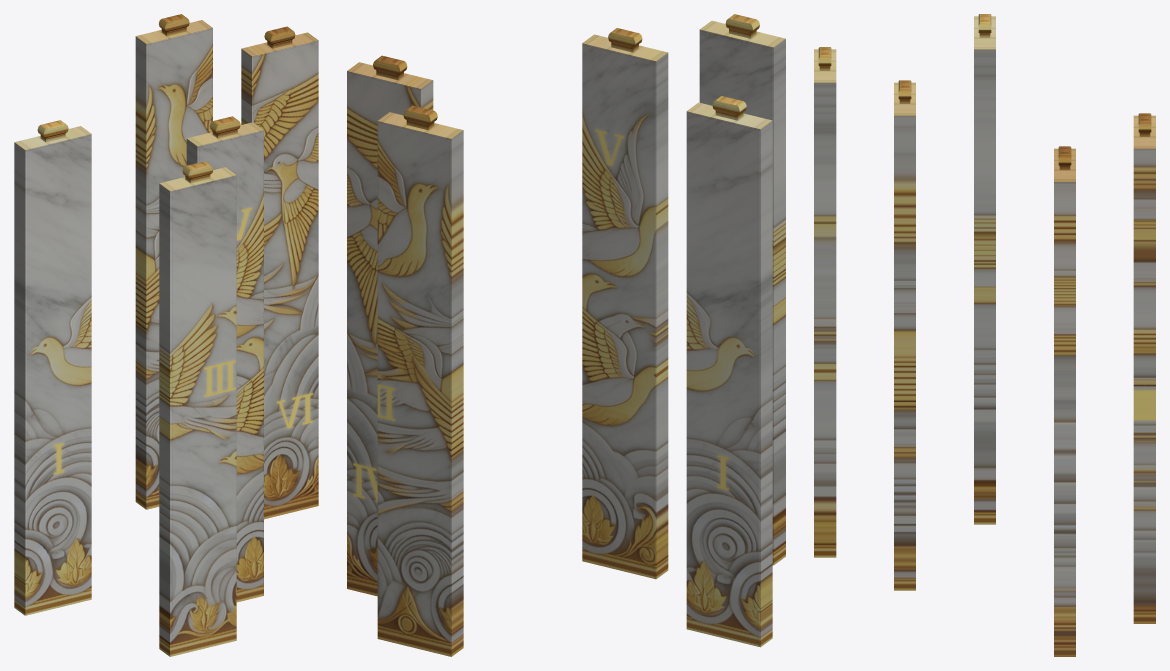
File: BirdsBoxPuzzle.fbx
3 renders of one model, left to right at view 1: azimuth 30°, elevation 25°; view 2: azimuth 150°, elevation 25°; view 3: azimuth 270°, elevation 25°, orthographic. The views are drawn at different scales.
Visible parts, largest first — view 1: Plane.005, Plane.004, Plane.002, Plane.001, Plane.003; view 2: Plane.001, Plane.003, Plane.005, Plane.002, Plane.004; view 3: Plane.004, Plane.001, Plane.002, Plane.003, Plane.005.
Part boxes in pixels (<box>): Plane.005: <box>14,120,91,615</box>; Plane.004: <box>159,161,236,656</box>; Plane.002: <box>241,26,318,519</box>; Plane.001: <box>135,14,212,509</box>; Plane.003: <box>186,116,263,602</box>; Plane.001: <box>377,105,463,656</box>; Plane.003: <box>582,28,668,579</box>; Plane.005: <box>686,96,772,647</box>; Plane.002: <box>347,55,433,596</box>; Plane.004: <box>699,14,785,565</box>; Plane.004: <box>814,47,836,557</box>; Plane.001: <box>1133,113,1155,623</box>; Plane.002: <box>1054,146,1075,656</box>; Plane.003: <box>894,80,915,590</box>; Plane.005: <box>974,14,995,524</box>.
Bounding box in the file's own units: 123 × 169 × 107.
Materials: 1 (1 with a texture image).
